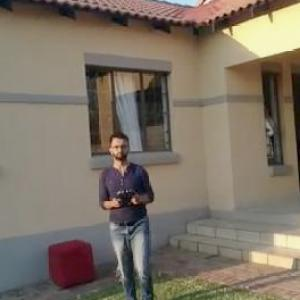follow: (92, 128, 160, 299)
